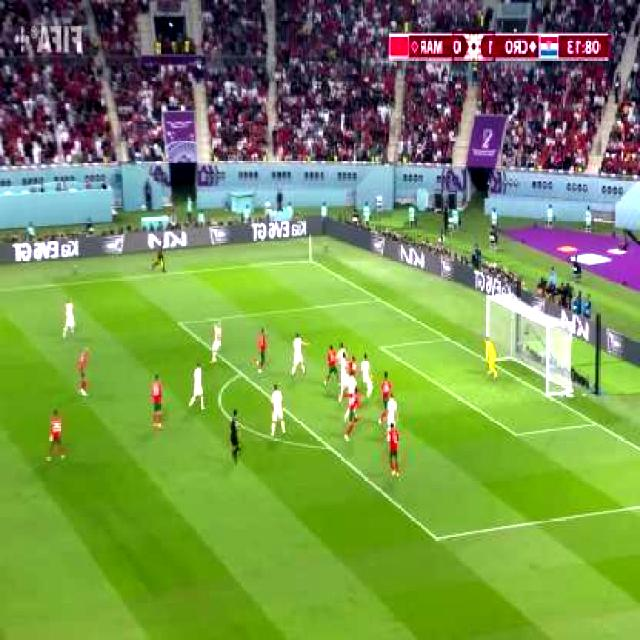bigarea_bottom_inner: (429, 528, 445, 549)
bigarea_top_inner: (172, 315, 186, 334)
bigarea_top_outter: (372, 292, 388, 308)
bottom_arc_area_intersection: (323, 437, 337, 460)
corner: (306, 256, 314, 264)
smallarea_bottom_inner: (508, 426, 523, 446)
smallarea_bottom_outter: (589, 416, 603, 436)
smallarea_top_inner: (372, 337, 388, 358)
smallarea_top_outter: (438, 330, 454, 348)
top_arc_area_intersection: (234, 365, 246, 383)
